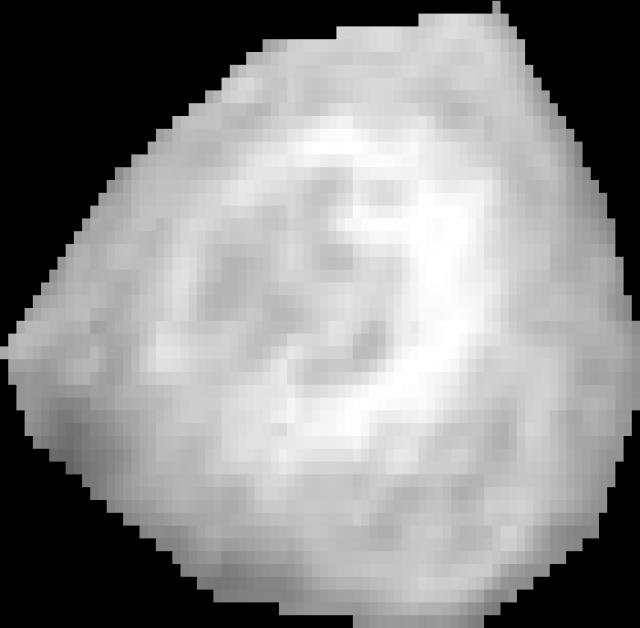tumor_good_chance: (0, 1, 640, 628)
